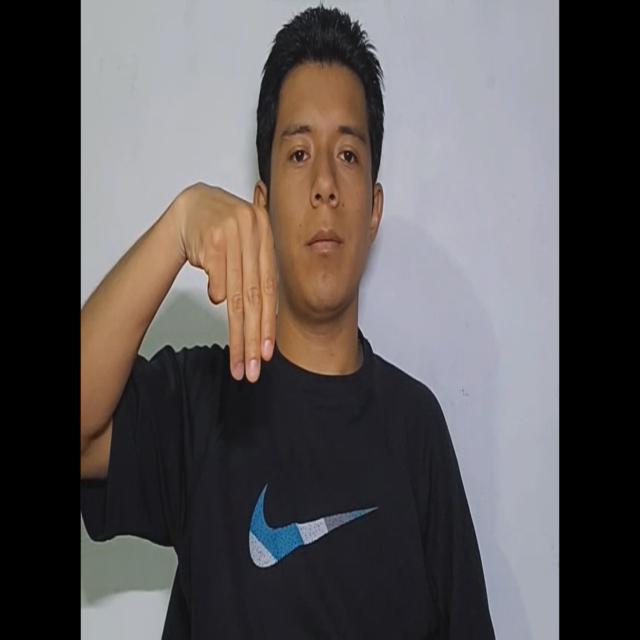M: (177, 168, 284, 408)
